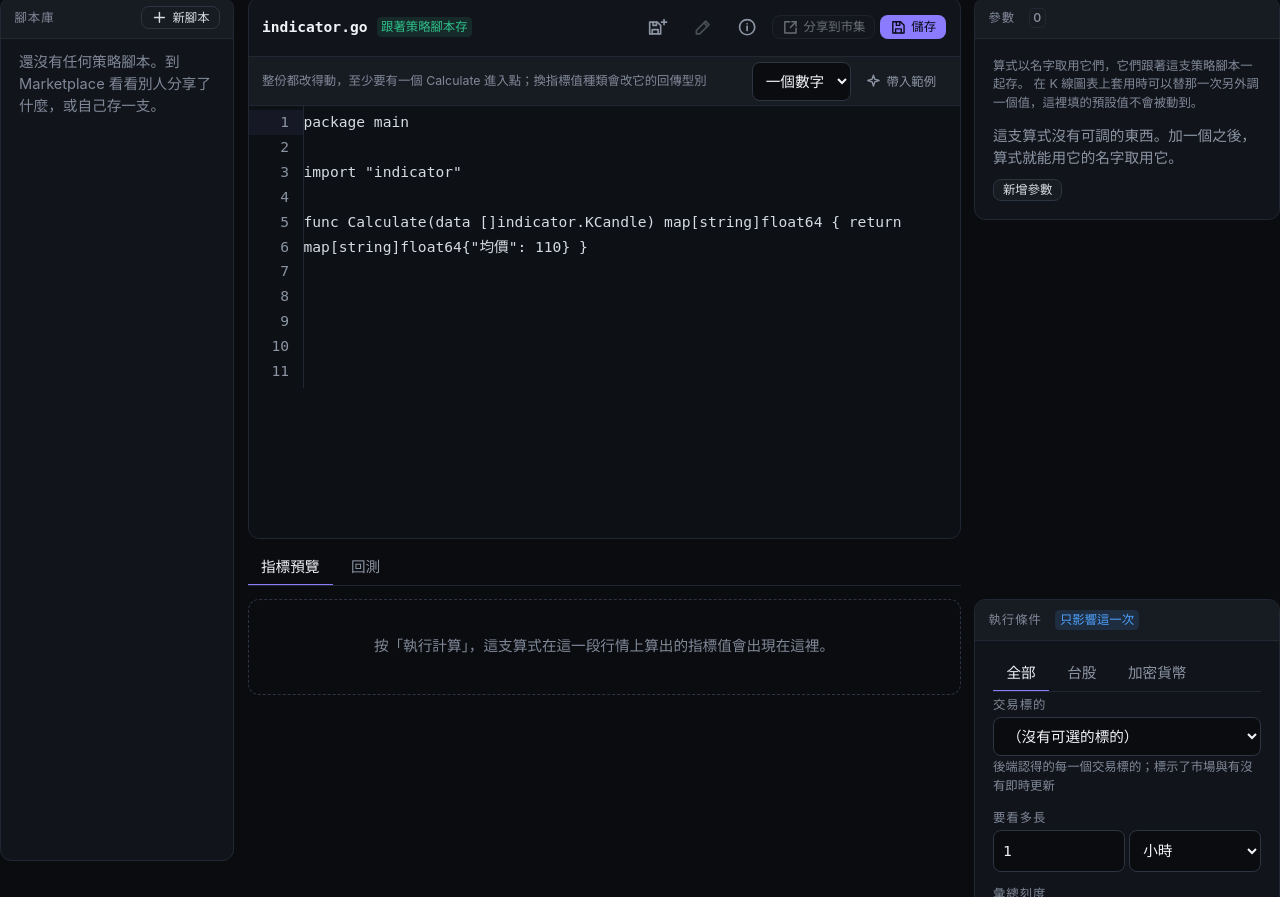
Test: IndicatorCalculationPanel › 未指定交易標的 時標在欄位旁且完全不執行
This screenshot has width=1280, height=897.
Clear the field with class "cm-content" at [356, 122], box [304,113,910,255]
(page scrolled)
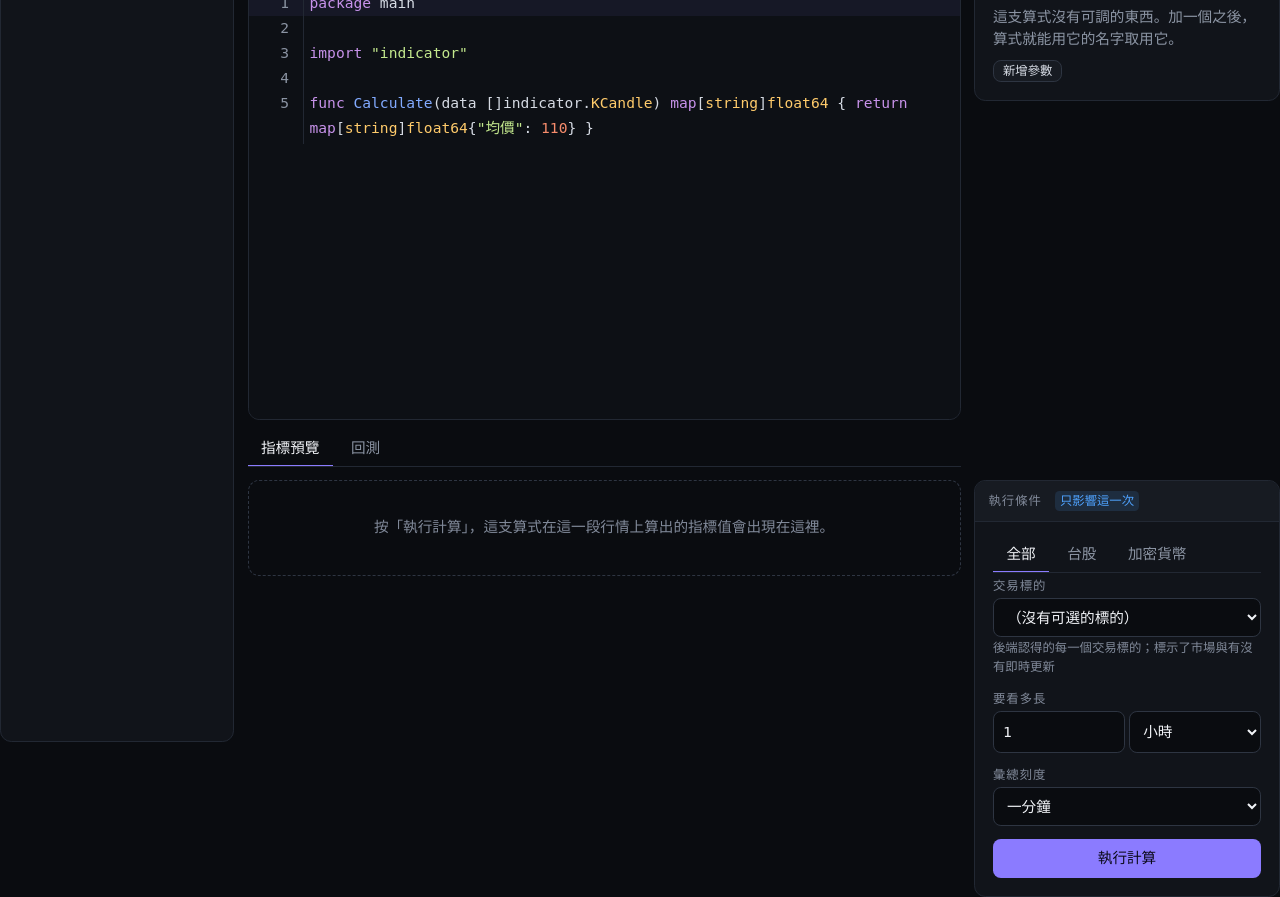
Submit the form, box [248,480,1279,896]
(page scrolled)
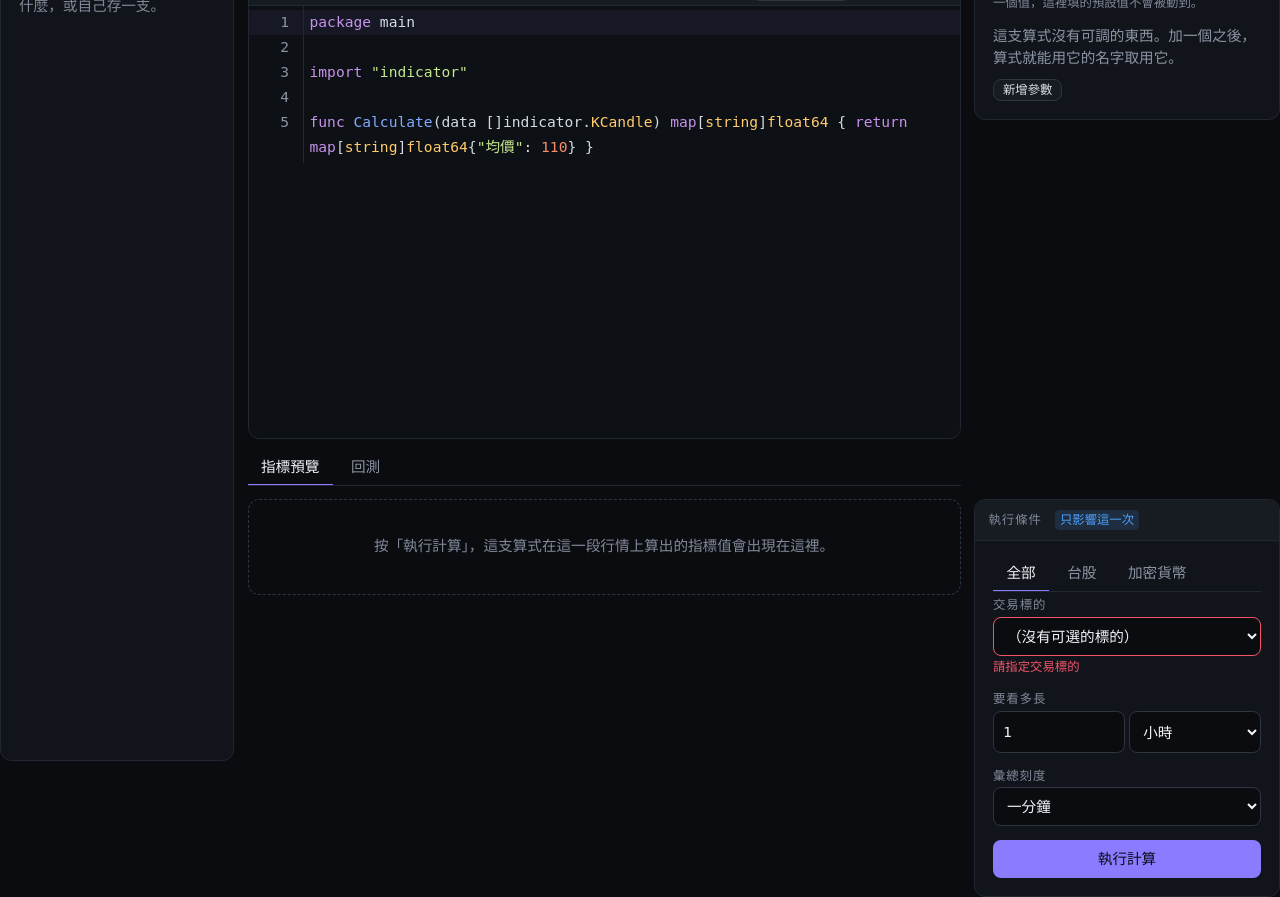
Result: the text with test id "field-error" reads "請指定交易標的" at [993,659,1080,674]
